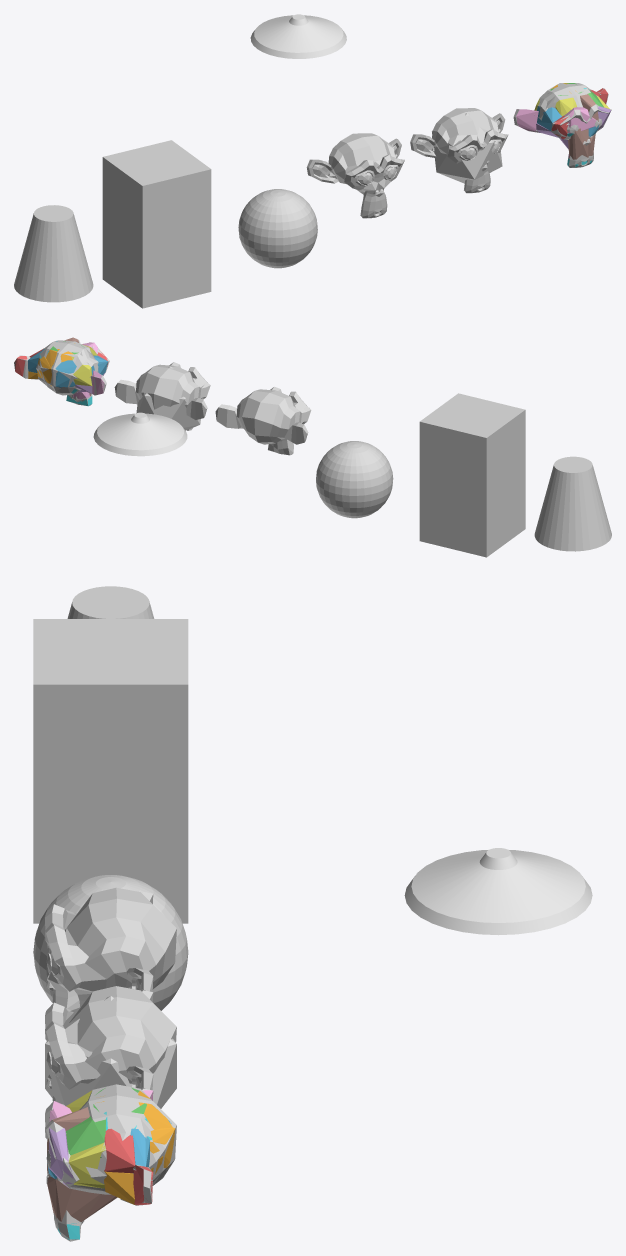
File: simple.glb
The picture shows the model from 3 angles, top to bottom: view 1: azimuth 30°, elevation 25°; view 2: azimuth 150°, elevation 25°; view 3: azimuth 270°, elevation 25°; orthographic projection. The views are drawn at different scales.
Parts seen in each view (by area): view 1: Cube.001, Cylinder, Sphere, Suzanne.VHACD, Suzanne, Suzanne.ColChild, lamp, Suzanne.col; view 2: Cube.001, Cylinder, Sphere, Suzanne.VHACD, Suzanne, lamp, Suzanne.ColChild, Suzanne.col; view 3: Cube.001, Suzanne.VHACD, lamp, Suzanne, Suzanne.ColChild, Sphere, Suzanne.col, Cylinder.
Boxes of the visible parts, left/top/right/bottom form: Cube.001: left=102, top=140, right=211, bottom=308; Cylinder: left=14, top=205, right=93, bottom=302; Sphere: left=238, top=189, right=317, bottom=268; Suzanne.VHACD: left=513, top=83, right=611, bottom=167; Suzanne: left=306, top=133, right=404, bottom=218; Suzanne.ColChild: left=410, top=108, right=508, bottom=193; lamp: left=250, top=14, right=346, bottom=58; Suzanne.col: left=432, top=112, right=502, bottom=183; Cube.001: left=419, top=393, right=525, bottom=557; Cylinder: left=534, top=456, right=611, bottom=551; Sphere: left=316, top=441, right=393, bottom=518; Suzanne.VHACD: left=14, top=337, right=109, bottom=406; Suzanne: left=215, top=386, right=311, bottom=455; lamp: left=93, top=412, right=187, bottom=456; Suzanne.ColChild: left=114, top=362, right=210, bottom=430; Suzanne.col: left=136, top=366, right=204, bottom=430; Cube.001: left=33, top=619, right=188, bottom=923; Suzanne.VHACD: left=45, top=1084, right=176, bottom=1241; lamp: left=404, top=848, right=592, bottom=935; Suzanne: left=45, top=887, right=176, bottom=1010; Suzanne.ColChild: left=45, top=986, right=176, bottom=1101; Sphere: left=33, top=875, right=188, bottom=1010; Suzanne.col: left=45, top=996, right=176, bottom=1108; Cylinder: left=67, top=586, right=154, bottom=618.
Bounding box in the file's own units: 17.37 × 4.04 × 7.21.
